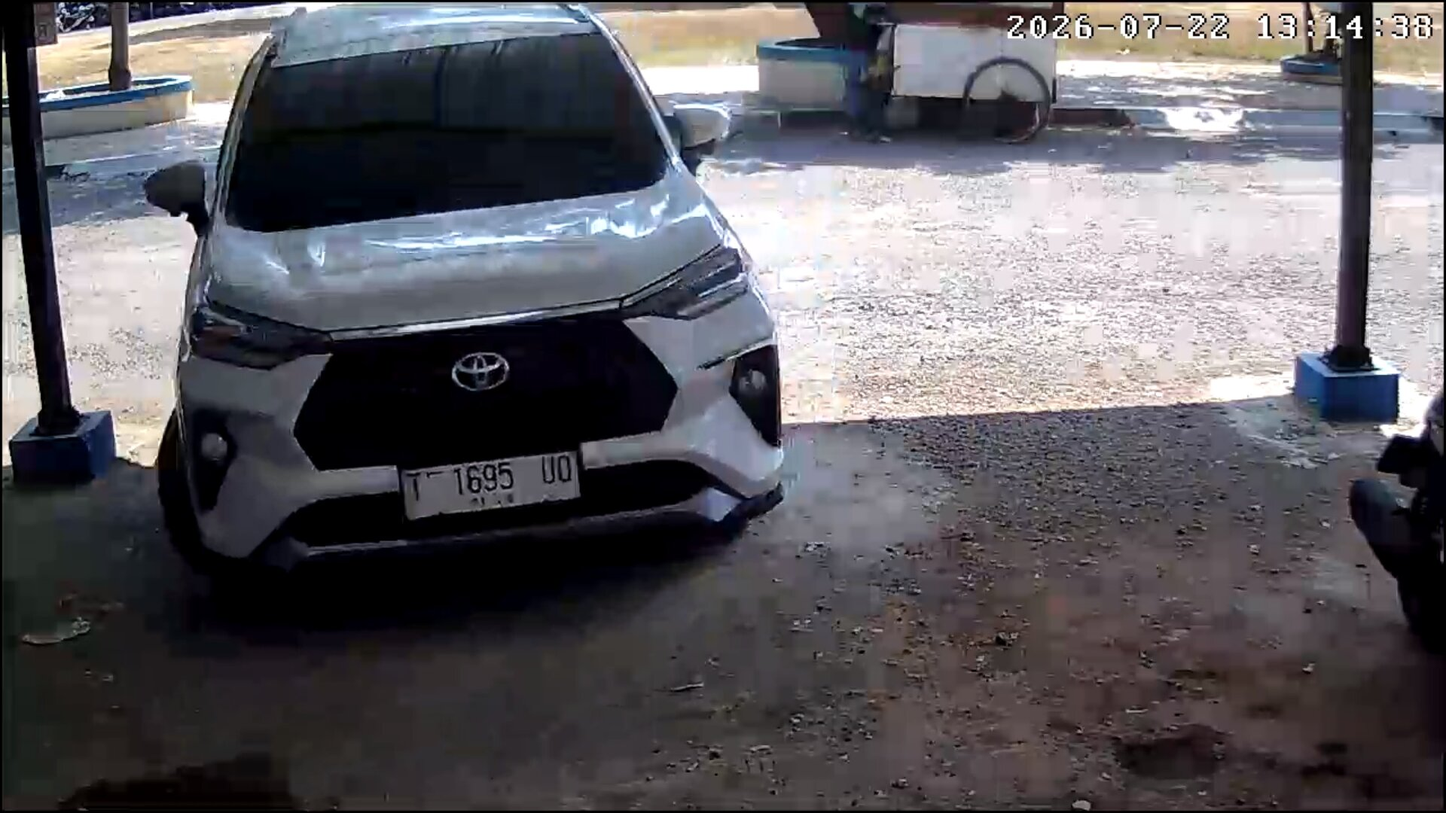plat nomor: (403, 450, 583, 524)
